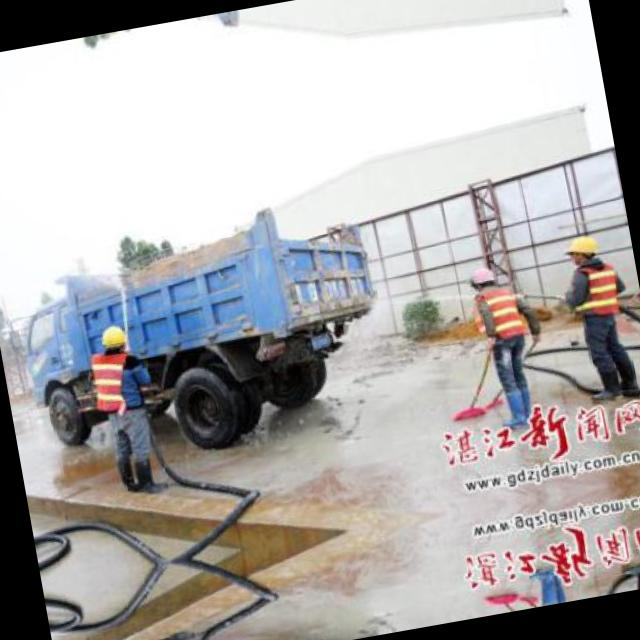helmet: (557, 230, 602, 276), (94, 322, 132, 361), (464, 262, 498, 299)
